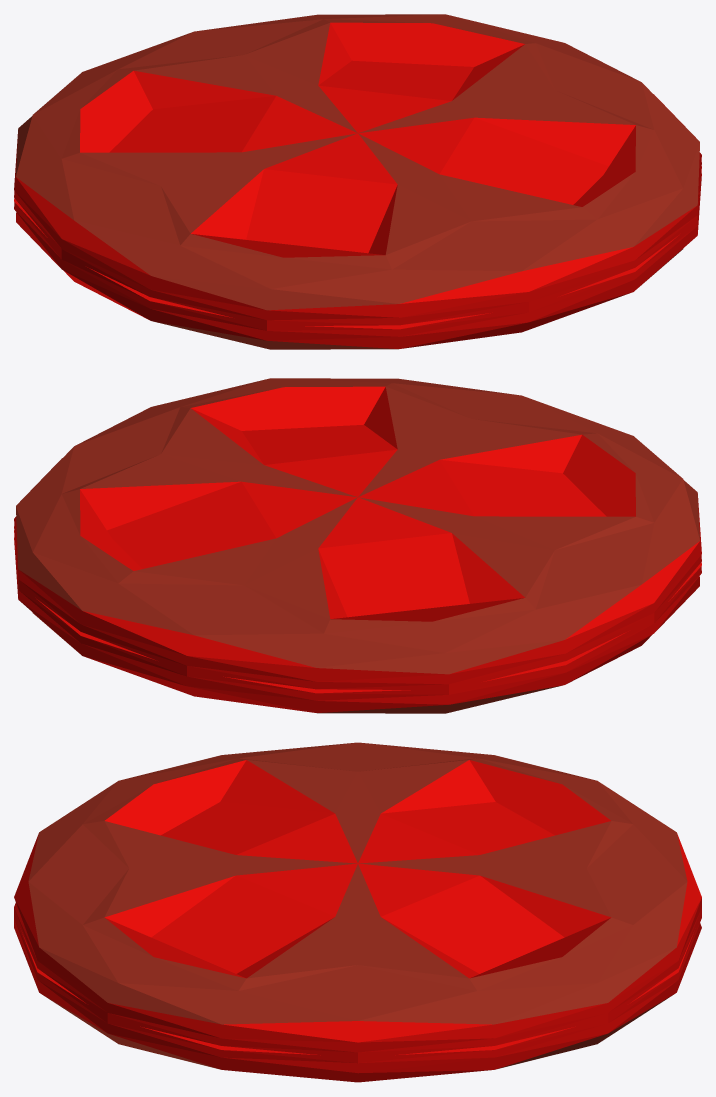
Rendered from tomate.fbx.
3 renders of one model, top to bottom at view 1: azimuth 30°, elevation 25°; view 2: azimuth 150°, elevation 25°; view 3: azimuth 270°, elevation 25°, orthographic.
Parts seen in each view (by area): view 1: Tomate; view 2: Tomate; view 3: Tomate.
Boxes of the visible parts, x1,y1,x2,y2 form: Tomate: [14, 14, 701, 349]; Tomate: [14, 378, 701, 713]; Tomate: [14, 742, 701, 1082].
Size of the model in its own units: 0.5779 by 0.0907 by 0.5779.
